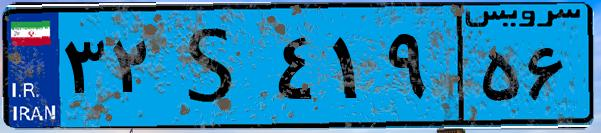1: (330, 28, 385, 110)
2: (110, 28, 158, 98)
3: (57, 26, 110, 100)
4: (270, 28, 330, 110)
5: (475, 38, 525, 113)
6: (525, 38, 570, 115)
9: (385, 28, 445, 110)
S: (158, 12, 270, 120)
